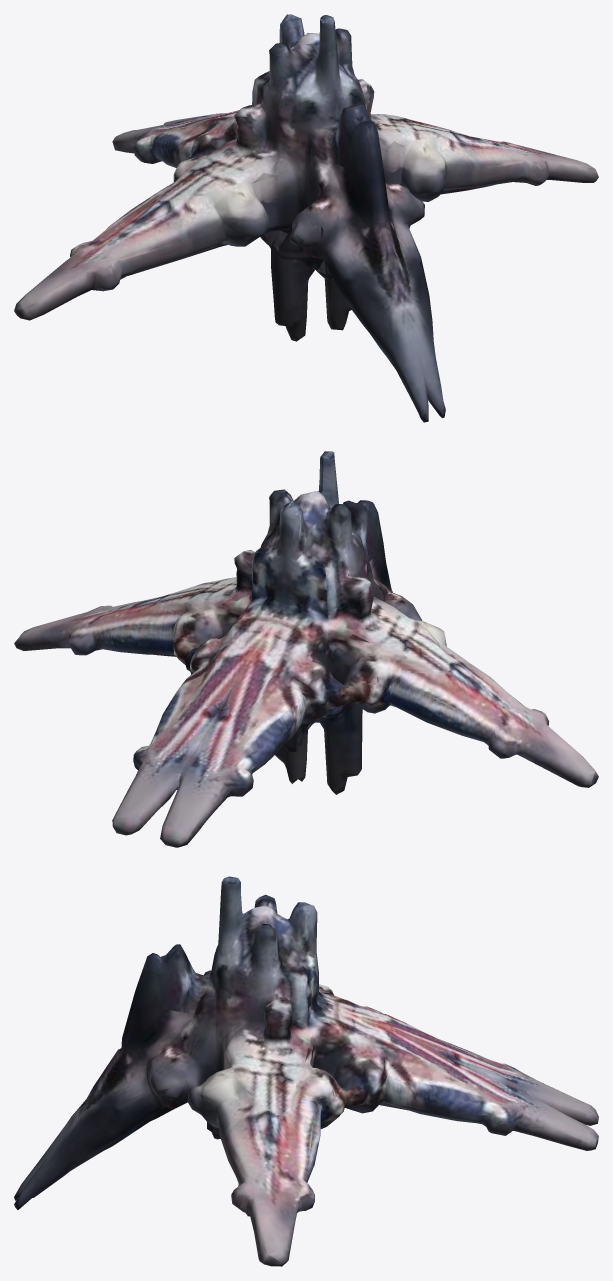
File: liberator_cross.glb
3 views of the same model, one above another, from view 1: azimuth 30°, elevation 25°; view 2: azimuth 150°, elevation 25°; view 3: azimuth 270°, elevation 25° (orthographic).
Parts seen in each view (by area): view 1: liberator_cross; view 2: liberator_cross; view 3: liberator_cross.
Part boxes in pixels (x1,y1,x2,y2): liberator_cross: (14,14,598,422); liberator_cross: (14,451,598,847); liberator_cross: (14,876,598,1266).
Bounding box in the file's own units: 0.119 × 0.0644 × 0.1039.
Materials: 1 (1 with a texture image).
